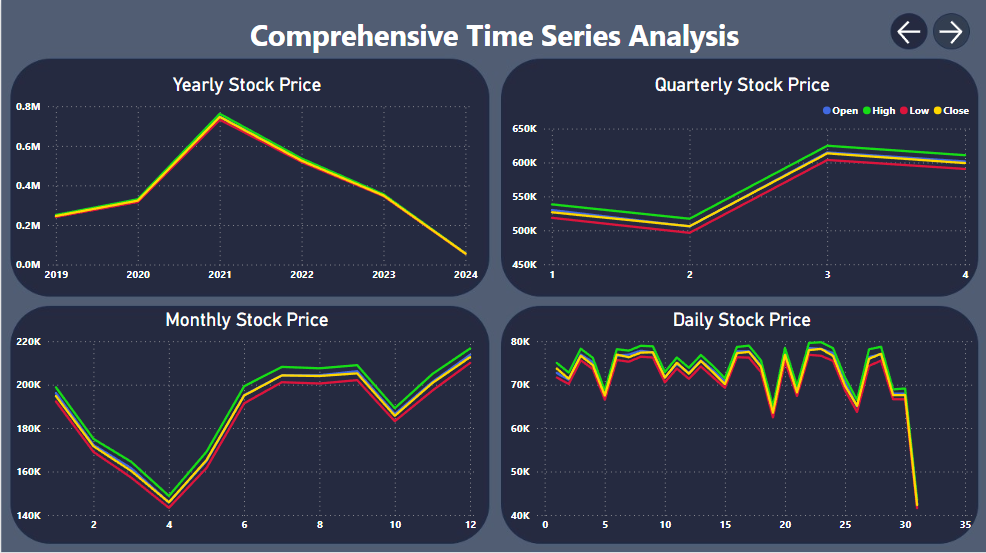

What the dashboard file says about the page in this screenshot:
{"tool":"powerbi","page":{"name":"Cumulative Performance","canvas":[1280,720],"ordinal":1},"visuals":[{"type":"textbox","box":[14.3,14.3,1252.9,62.9],"z":0},{"type":"lineChart","title":"Yearly Stock Price","fields":{"Y":["Sum(LUXIND NS.Open)","Sum(LUXIND NS.High)","Sum(LUXIND NS.Low)","Sum(LUXIND NS.Close)"],"Category":["Lux Dataset.Year"]},"box":[14.3,95.7,610,278.6],"z":1000},{"type":"lineChart","title":"Quarterly Stock Price","fields":{"Y":["Sum(LUXIND NS.Open)","Sum(LUXIND NS.High)","Sum(LUXIND NS.Low)","Sum(LUXIND NS.Close)"],"Category":["Lux Dataset.Quarter"]},"box":[658.6,95.7,608.6,278.6],"z":2000},{"type":"lineChart","title":"Monthly Stock Price","fields":{"Y":["Sum(LUXIND NS.Open)","Sum(LUXIND NS.High)","Sum(LUXIND NS.Low)","Sum(LUXIND NS.Close)"],"Category":["Lux Dataset.Month"]},"box":[14.3,401.4,610,298.6],"z":3000},{"type":"lineChart","title":"Daily Stock Price","fields":{"Y":["Sum(LUXIND NS.Open)","Sum(LUXIND NS.High)","Sum(LUXIND NS.Low)","Sum(LUXIND NS.Close)"],"Category":["Lux Dataset.Day"]},"box":[657.1,401.4,610,298.6],"z":4000},{"type":"actionButton","box":[1212.9,21.4,50,40],"z":5000},{"type":"actionButton","box":[1160,21.4,45.7,40],"z":6000}]}

Visuals, with their boxes in screenshot pixels (x1, y1, x2, y2), scaled from the page's 1280x720 canvas onto the 986x553 screenshot:
textbox: rect(11, 11, 976, 59)
"Yearly Stock Price" lineChart: rect(11, 74, 481, 287)
"Quarterly Stock Price" lineChart: rect(507, 74, 976, 287)
"Monthly Stock Price" lineChart: rect(11, 308, 481, 538)
"Daily Stock Price" lineChart: rect(506, 308, 976, 538)
actionButton: rect(934, 16, 973, 47)
actionButton: rect(894, 16, 929, 47)
